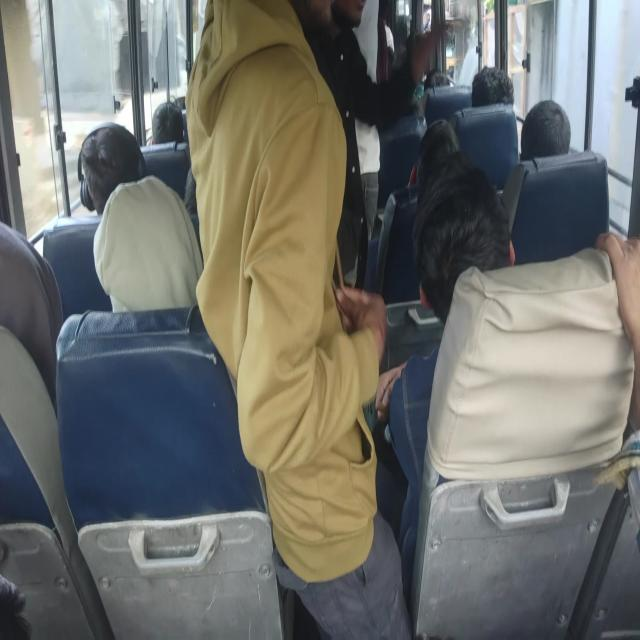person: (188, 4, 366, 510), (413, 195, 520, 313), (104, 178, 192, 320), (595, 206, 640, 419), (70, 108, 158, 190), (323, 0, 382, 120), (0, 236, 51, 369), (526, 88, 562, 167), (423, 119, 465, 180), (390, 93, 444, 138), (473, 65, 529, 105), (152, 91, 193, 142), (427, 68, 468, 98)
